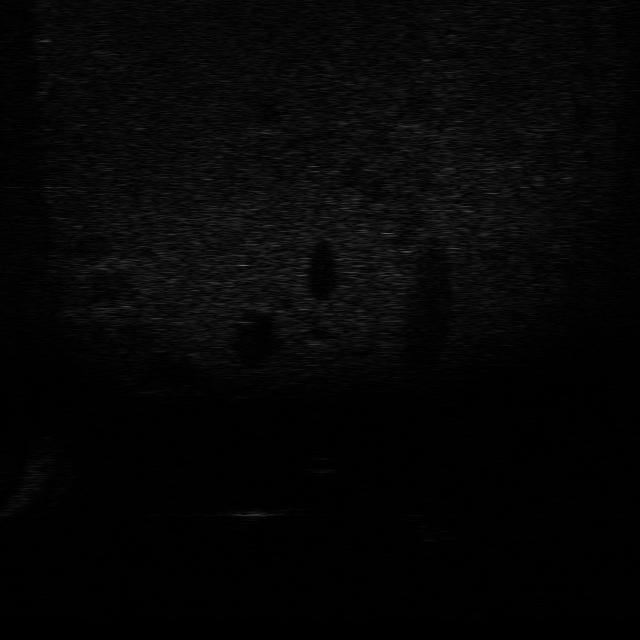ball: (299, 449, 345, 477)
square cage: (220, 497, 289, 528)
tyre: (408, 506, 462, 545)
